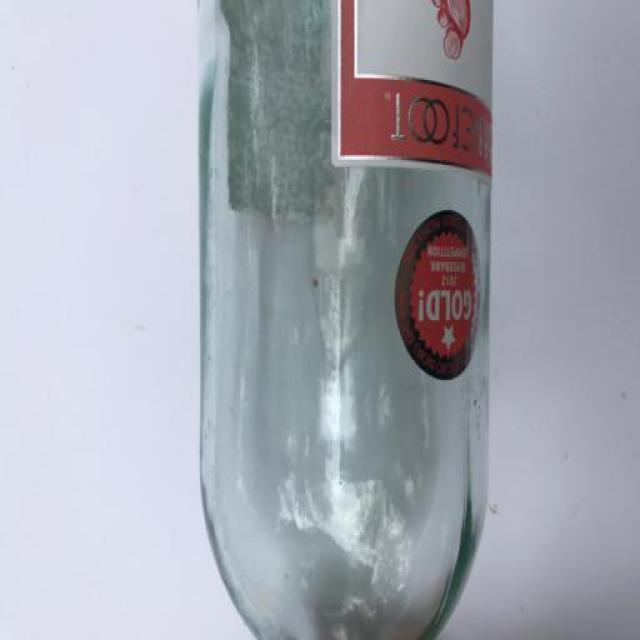inorganic: (198, 0, 494, 640)
